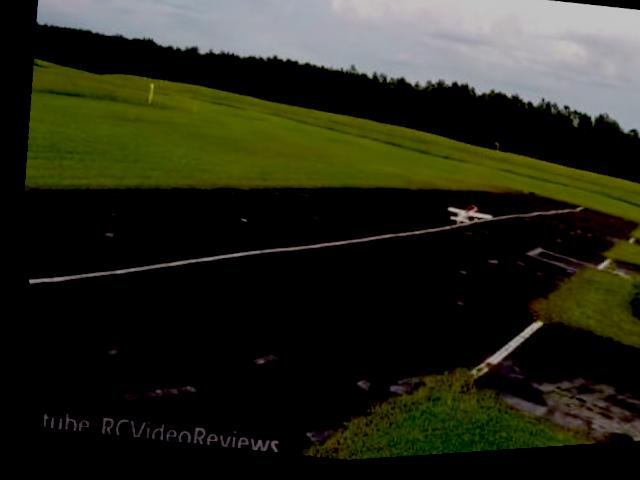uav: (432, 195, 497, 246)
